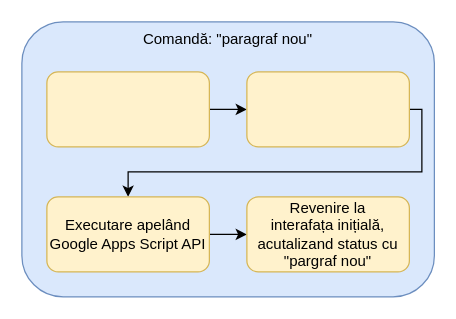
Image size: 456x319. Some labels were removed from this diagram. The shapes that lost their labels are listed below. From the top down, each one's centre as x and y in pixels, then its label:
(x=127, y=109): Captare comandă de către Zevo STT phrases
(x=327, y=109): Intrare în mod "format" și căutare comandă
